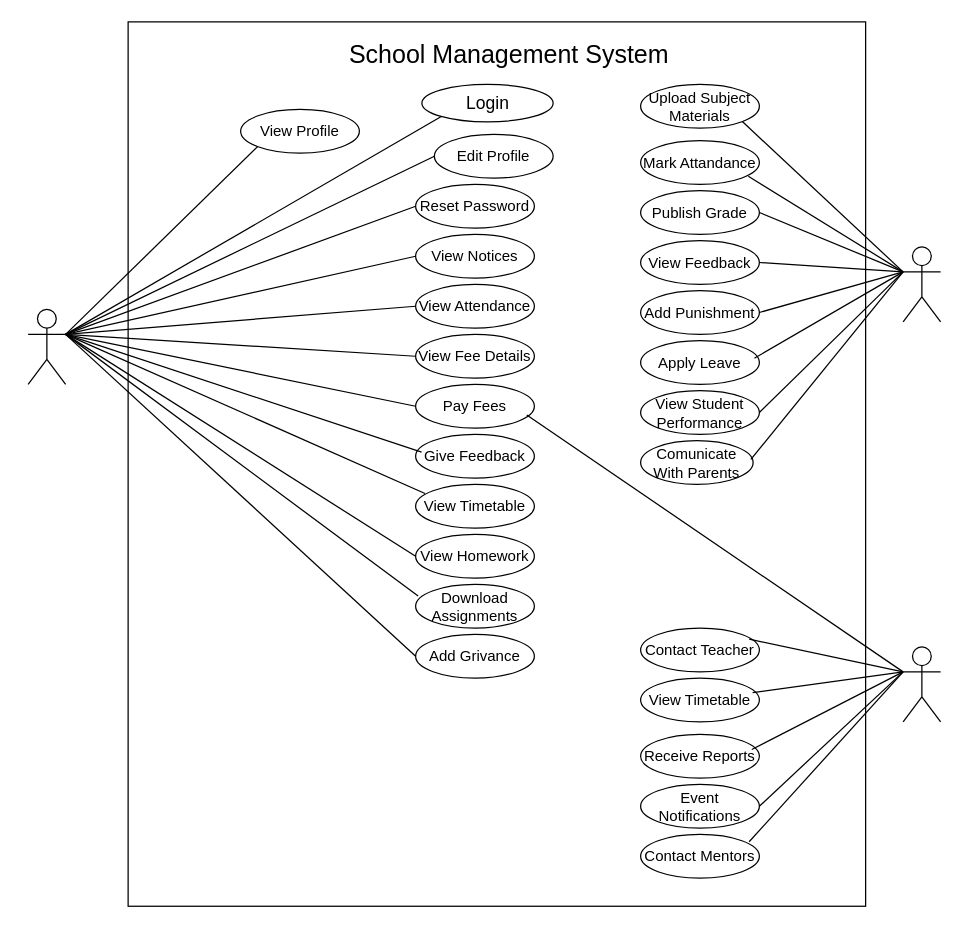
Some shapes in this 970 by 929 pixel diagram are drawn without their labels. Here are the shapes that lost their labels. From the top down, the box of each, then its label:
(902, 246, 941, 322): Teacher
(27, 308, 66, 384): Student
(902, 646, 941, 722): Parents
